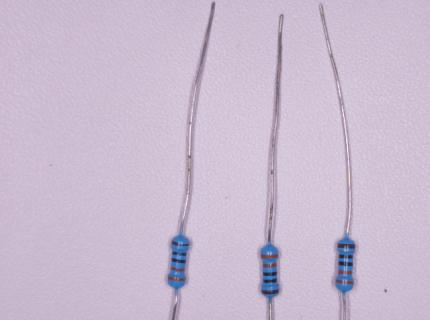Black band: (172, 258, 186, 263), (339, 254, 353, 259), (262, 279, 277, 283), (263, 272, 277, 276), (339, 262, 353, 266), (173, 252, 186, 256)
Brown band: (172, 240, 189, 246), (337, 244, 356, 249), (262, 290, 279, 294)
Orange band: (168, 276, 186, 282), (261, 254, 278, 259), (171, 266, 185, 272), (263, 263, 277, 268), (338, 270, 352, 275), (336, 280, 353, 284)
